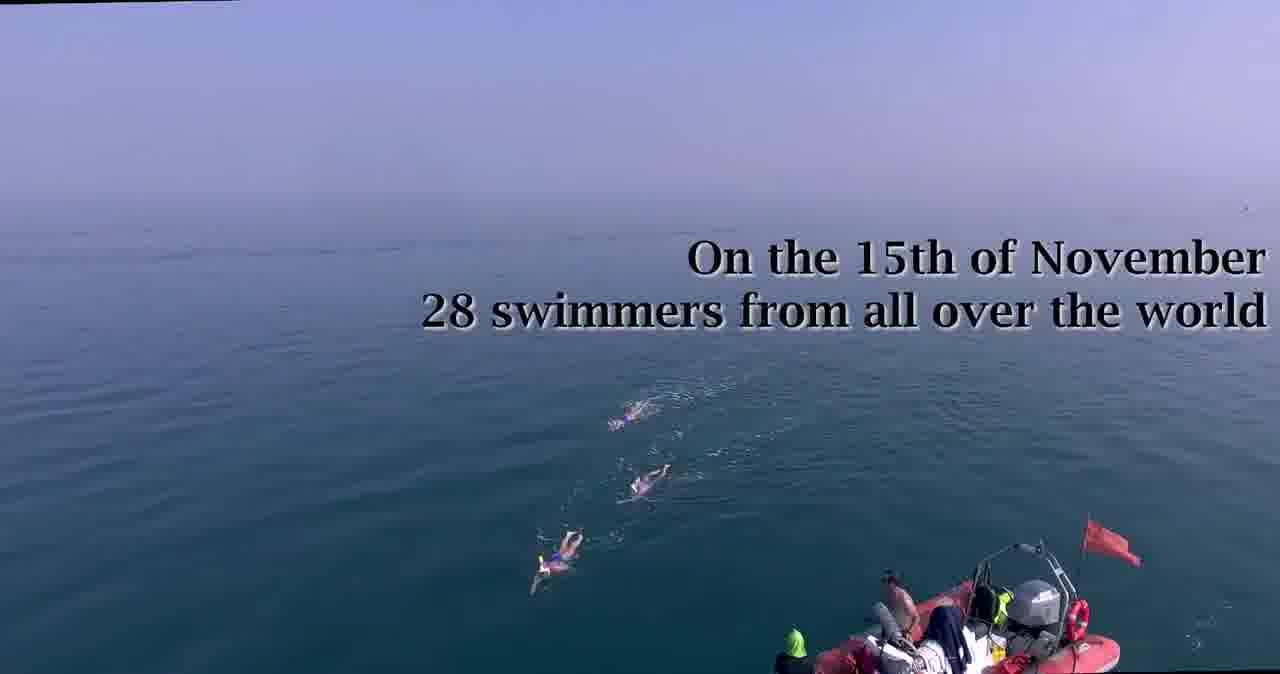swimmer: (528, 529, 587, 598), (619, 462, 670, 508)
